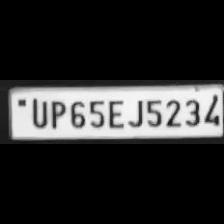2: (162, 96, 182, 128)
3: (181, 95, 201, 127)
4: (200, 92, 222, 125)
5: (142, 96, 164, 127), (86, 96, 106, 128)
6: (66, 97, 86, 128)
E: (105, 97, 124, 129)
J: (126, 96, 144, 128)
P: (47, 97, 66, 128)
U: (28, 97, 48, 129)
